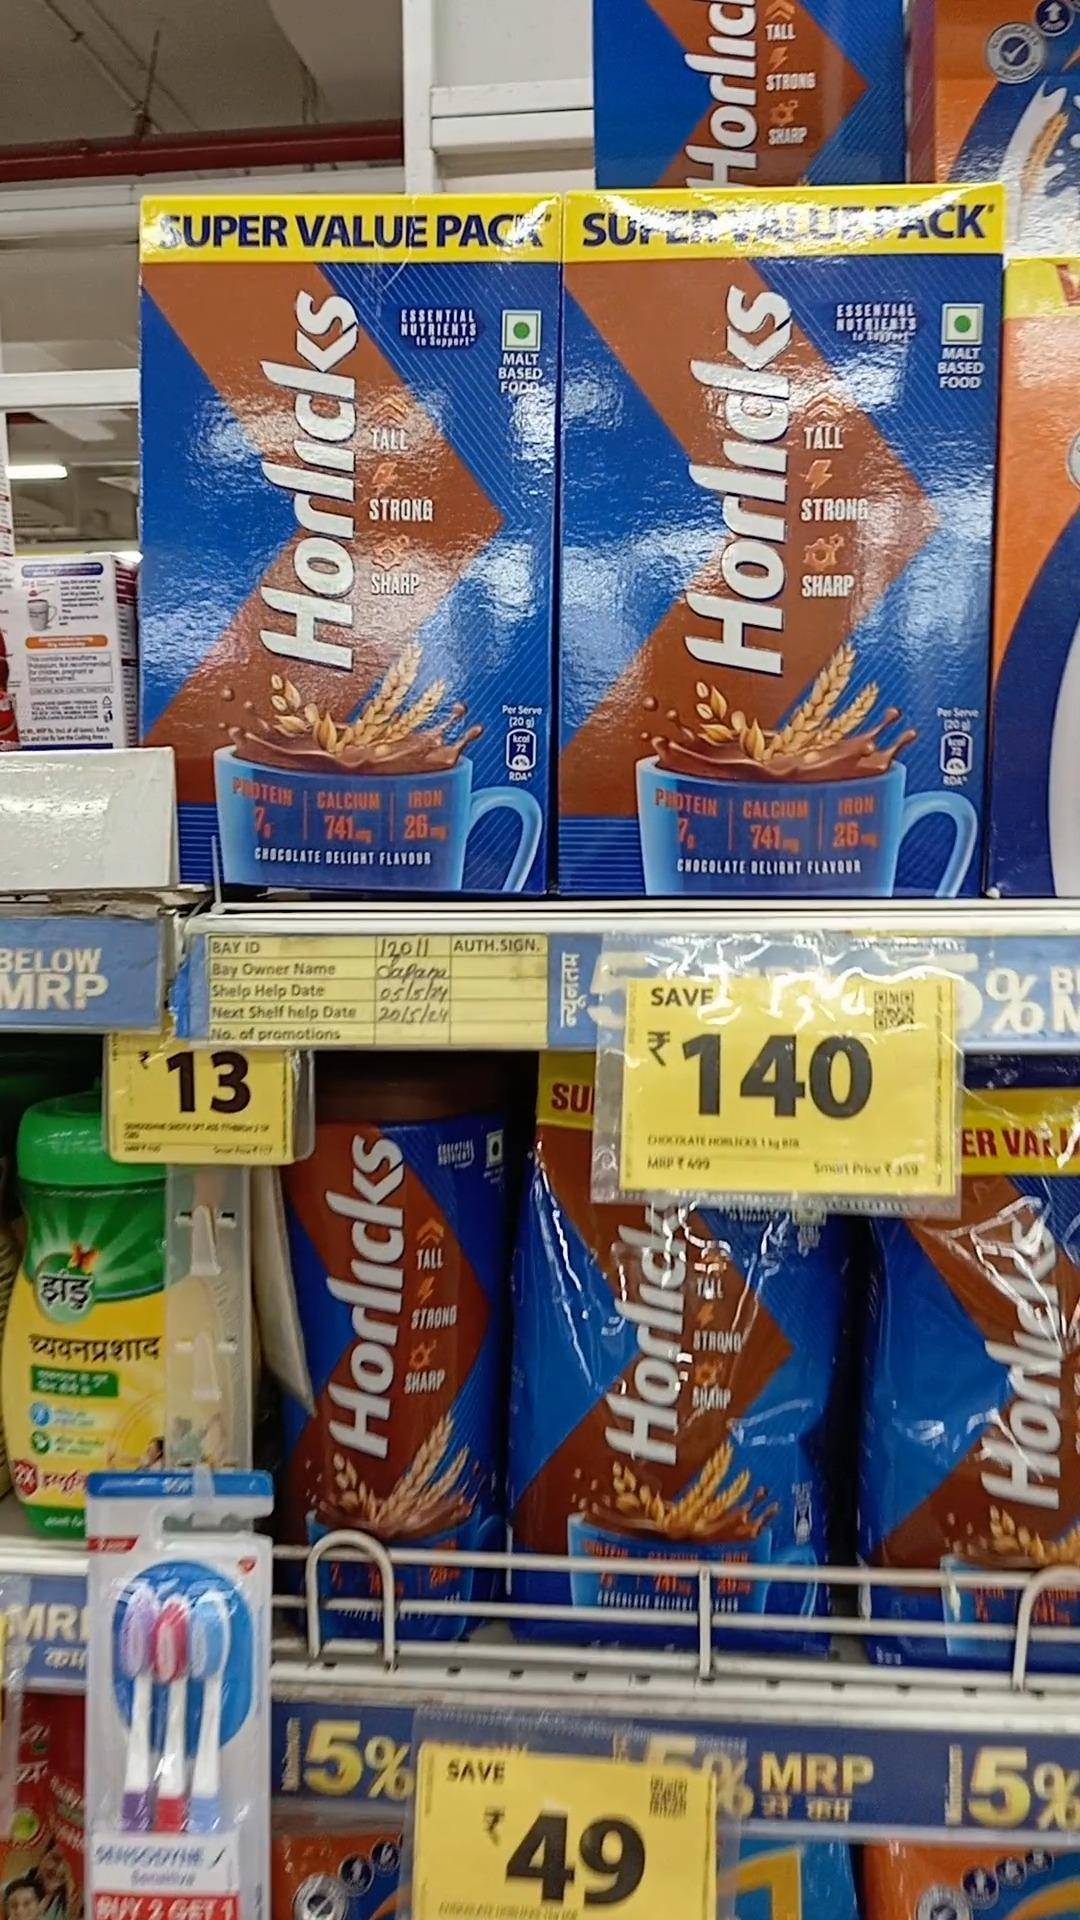HORLICK_CHOCOLATE_1_KG_JAR: (291, 1084, 492, 1647)
HORLICK_CHOCOLATE_1_KG_PACK: (568, 187, 1002, 901), (141, 195, 541, 895)
HORLICK_CHOCOLATE_750_G_POUCH: (520, 1138, 841, 1660), (874, 1063, 1080, 1672)
